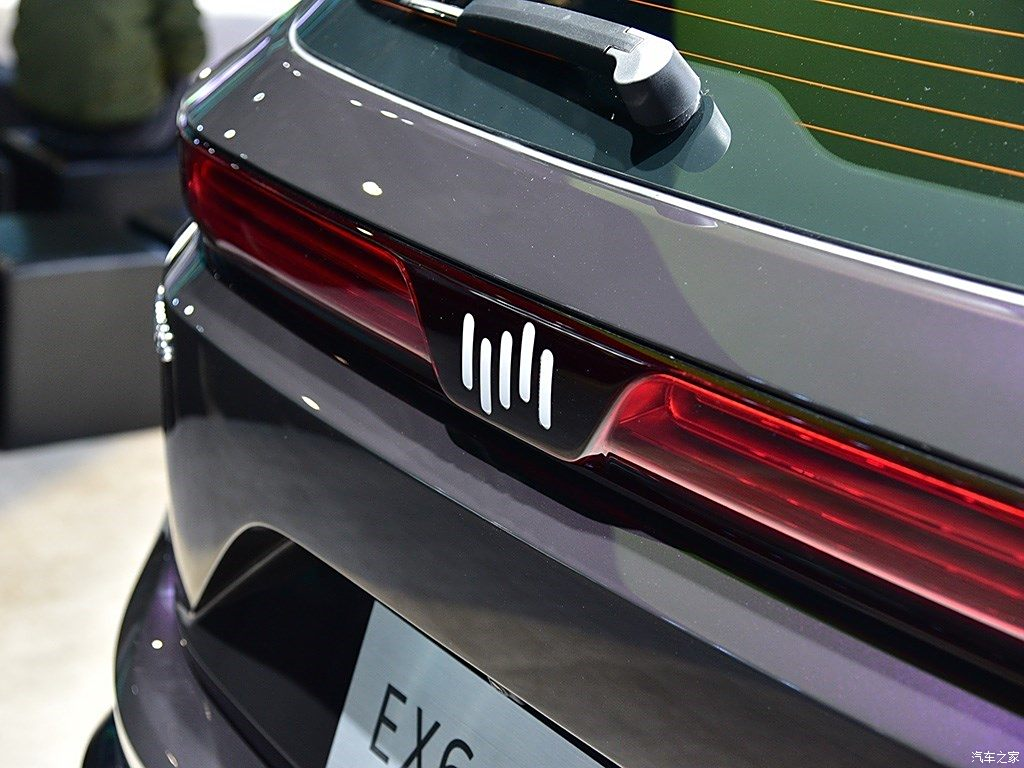WELTMEISTER: (463, 313, 553, 430)
